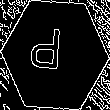P_S: (37, 29, 73, 81)
